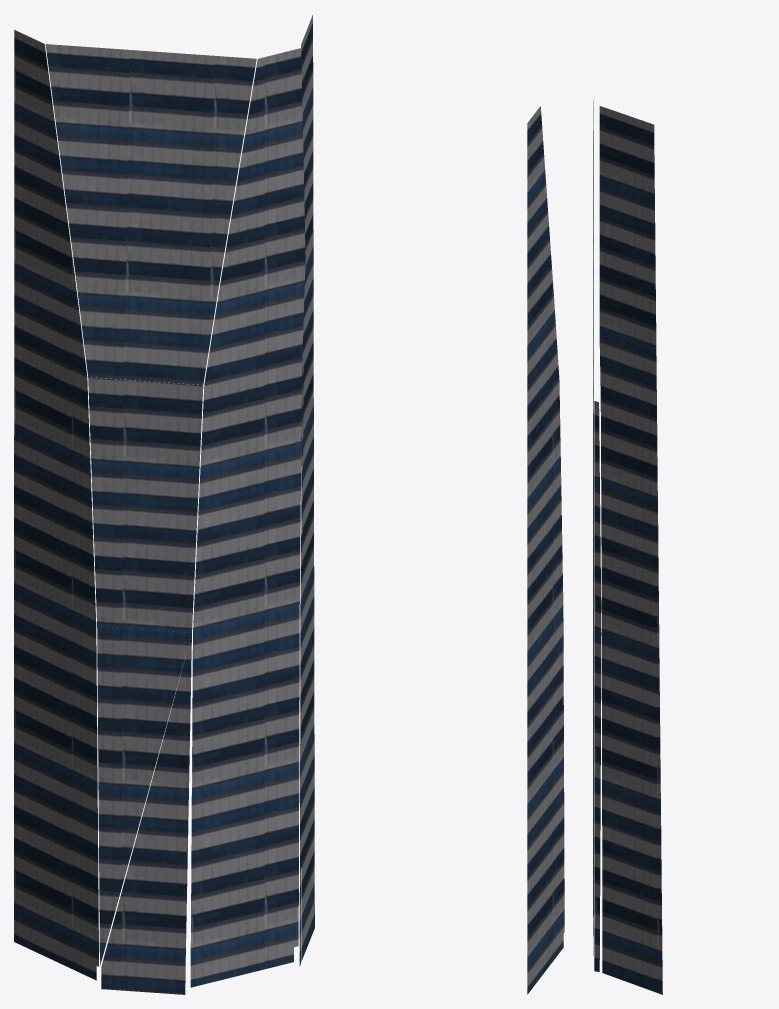
3 views of the same model, side by side, from view 1: azimuth 30°, elevation 25°; view 2: azimuth 150°, elevation 25°; view 3: azimuth 270°, elevation 25° (orthographic). The views are drawn at different scales.
Bounding box in the file's own units: 34.86 × 124 × 22.28.
Materials: 1 (1 with a texture image).
